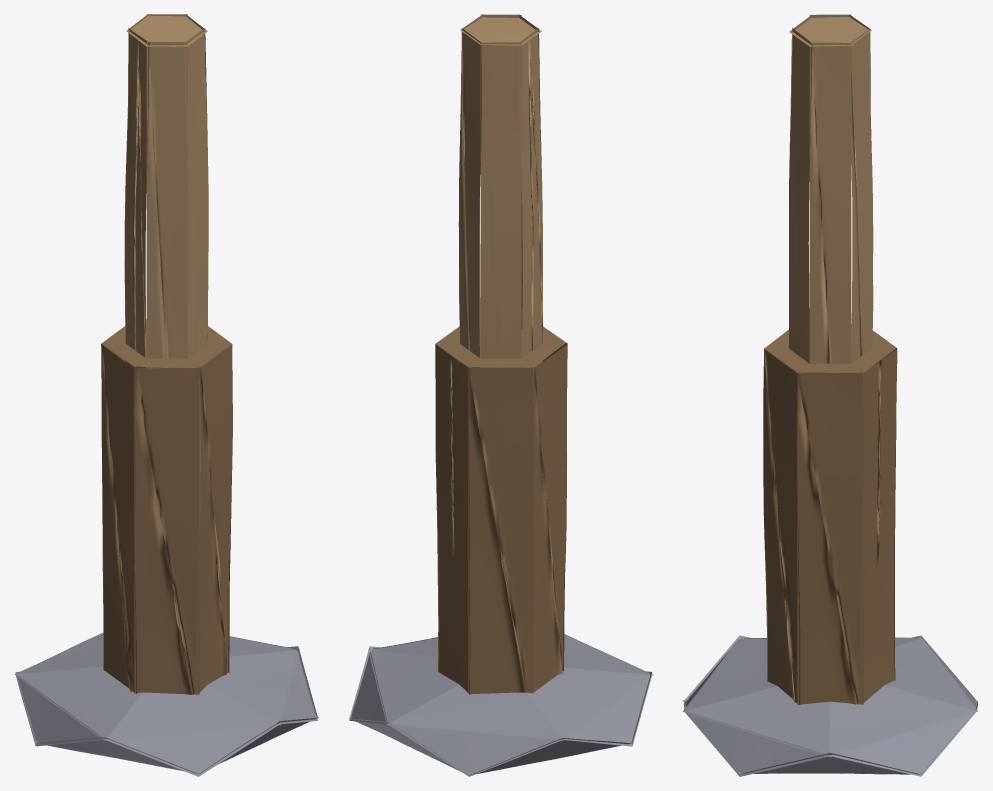
The model's file is roost.glb.
3 views of the same model, side by side, from view 1: azimuth 30°, elevation 25°; view 2: azimuth 150°, elevation 25°; view 3: azimuth 270°, elevation 25° (orthographic).
Visible parts, largest first — view 1: RoostPost; view 2: RoostPost; view 3: RoostPost.
Boxes of the visible parts, box(x1,y1,x2,y2) form: RoostPost: box(15, 14, 318, 776); RoostPost: box(348, 14, 652, 776); RoostPost: box(682, 14, 978, 776).
Bounding box in the file's own units: 0.7495 × 1.89 × 0.7136.
